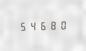eight: (48, 19, 57, 30)
five: (18, 20, 27, 31)
four: (28, 20, 37, 31)
six: (38, 20, 47, 30)
zero: (58, 19, 67, 30)
